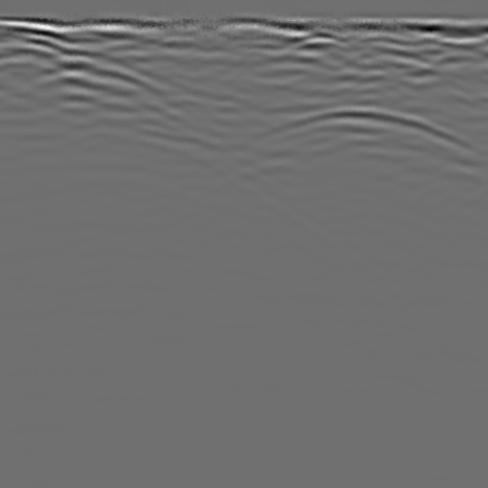hyperbola: (207, 91, 488, 213)
